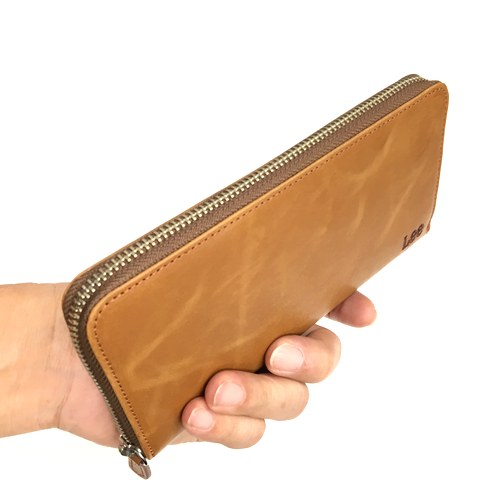monedero: (59, 73, 451, 464)
